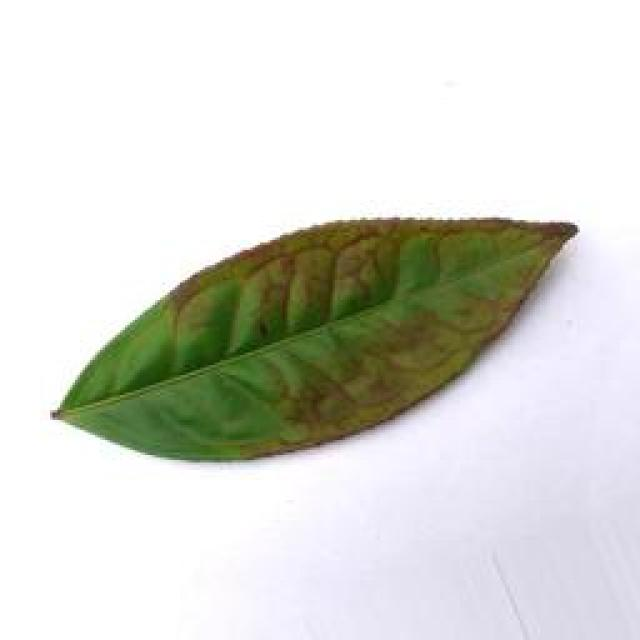Red Leaf Spot: (47, 193, 585, 474)
